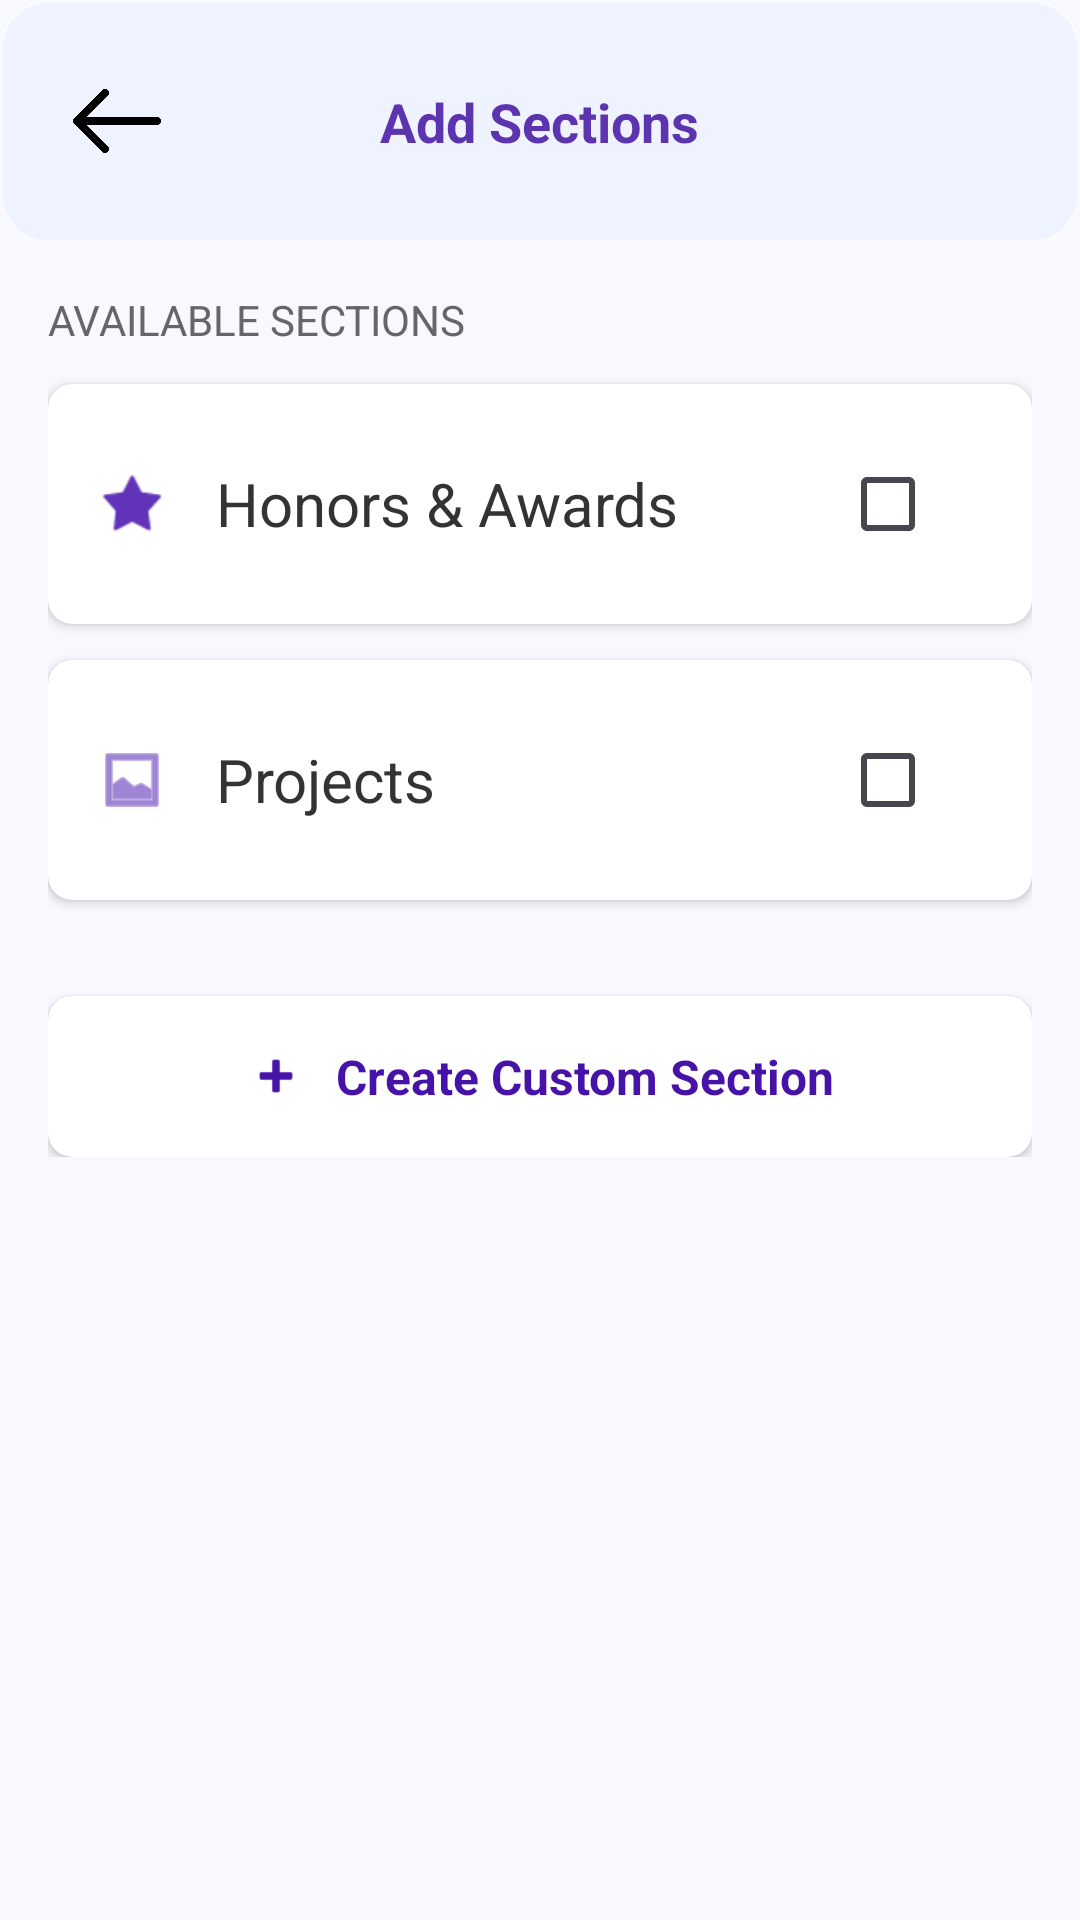

Icons on this 1080 × 1920 Android screen, each with its box as (left=x1, top=y1, right=x2, bottom=y2):
add: (left=259, top=1059, right=293, bottom=1093)
back: (left=73, top=89, right=161, bottom=153)
gallery: (left=105, top=753, right=159, bottom=807)
star on: (left=102, top=475, right=162, bottom=531)
